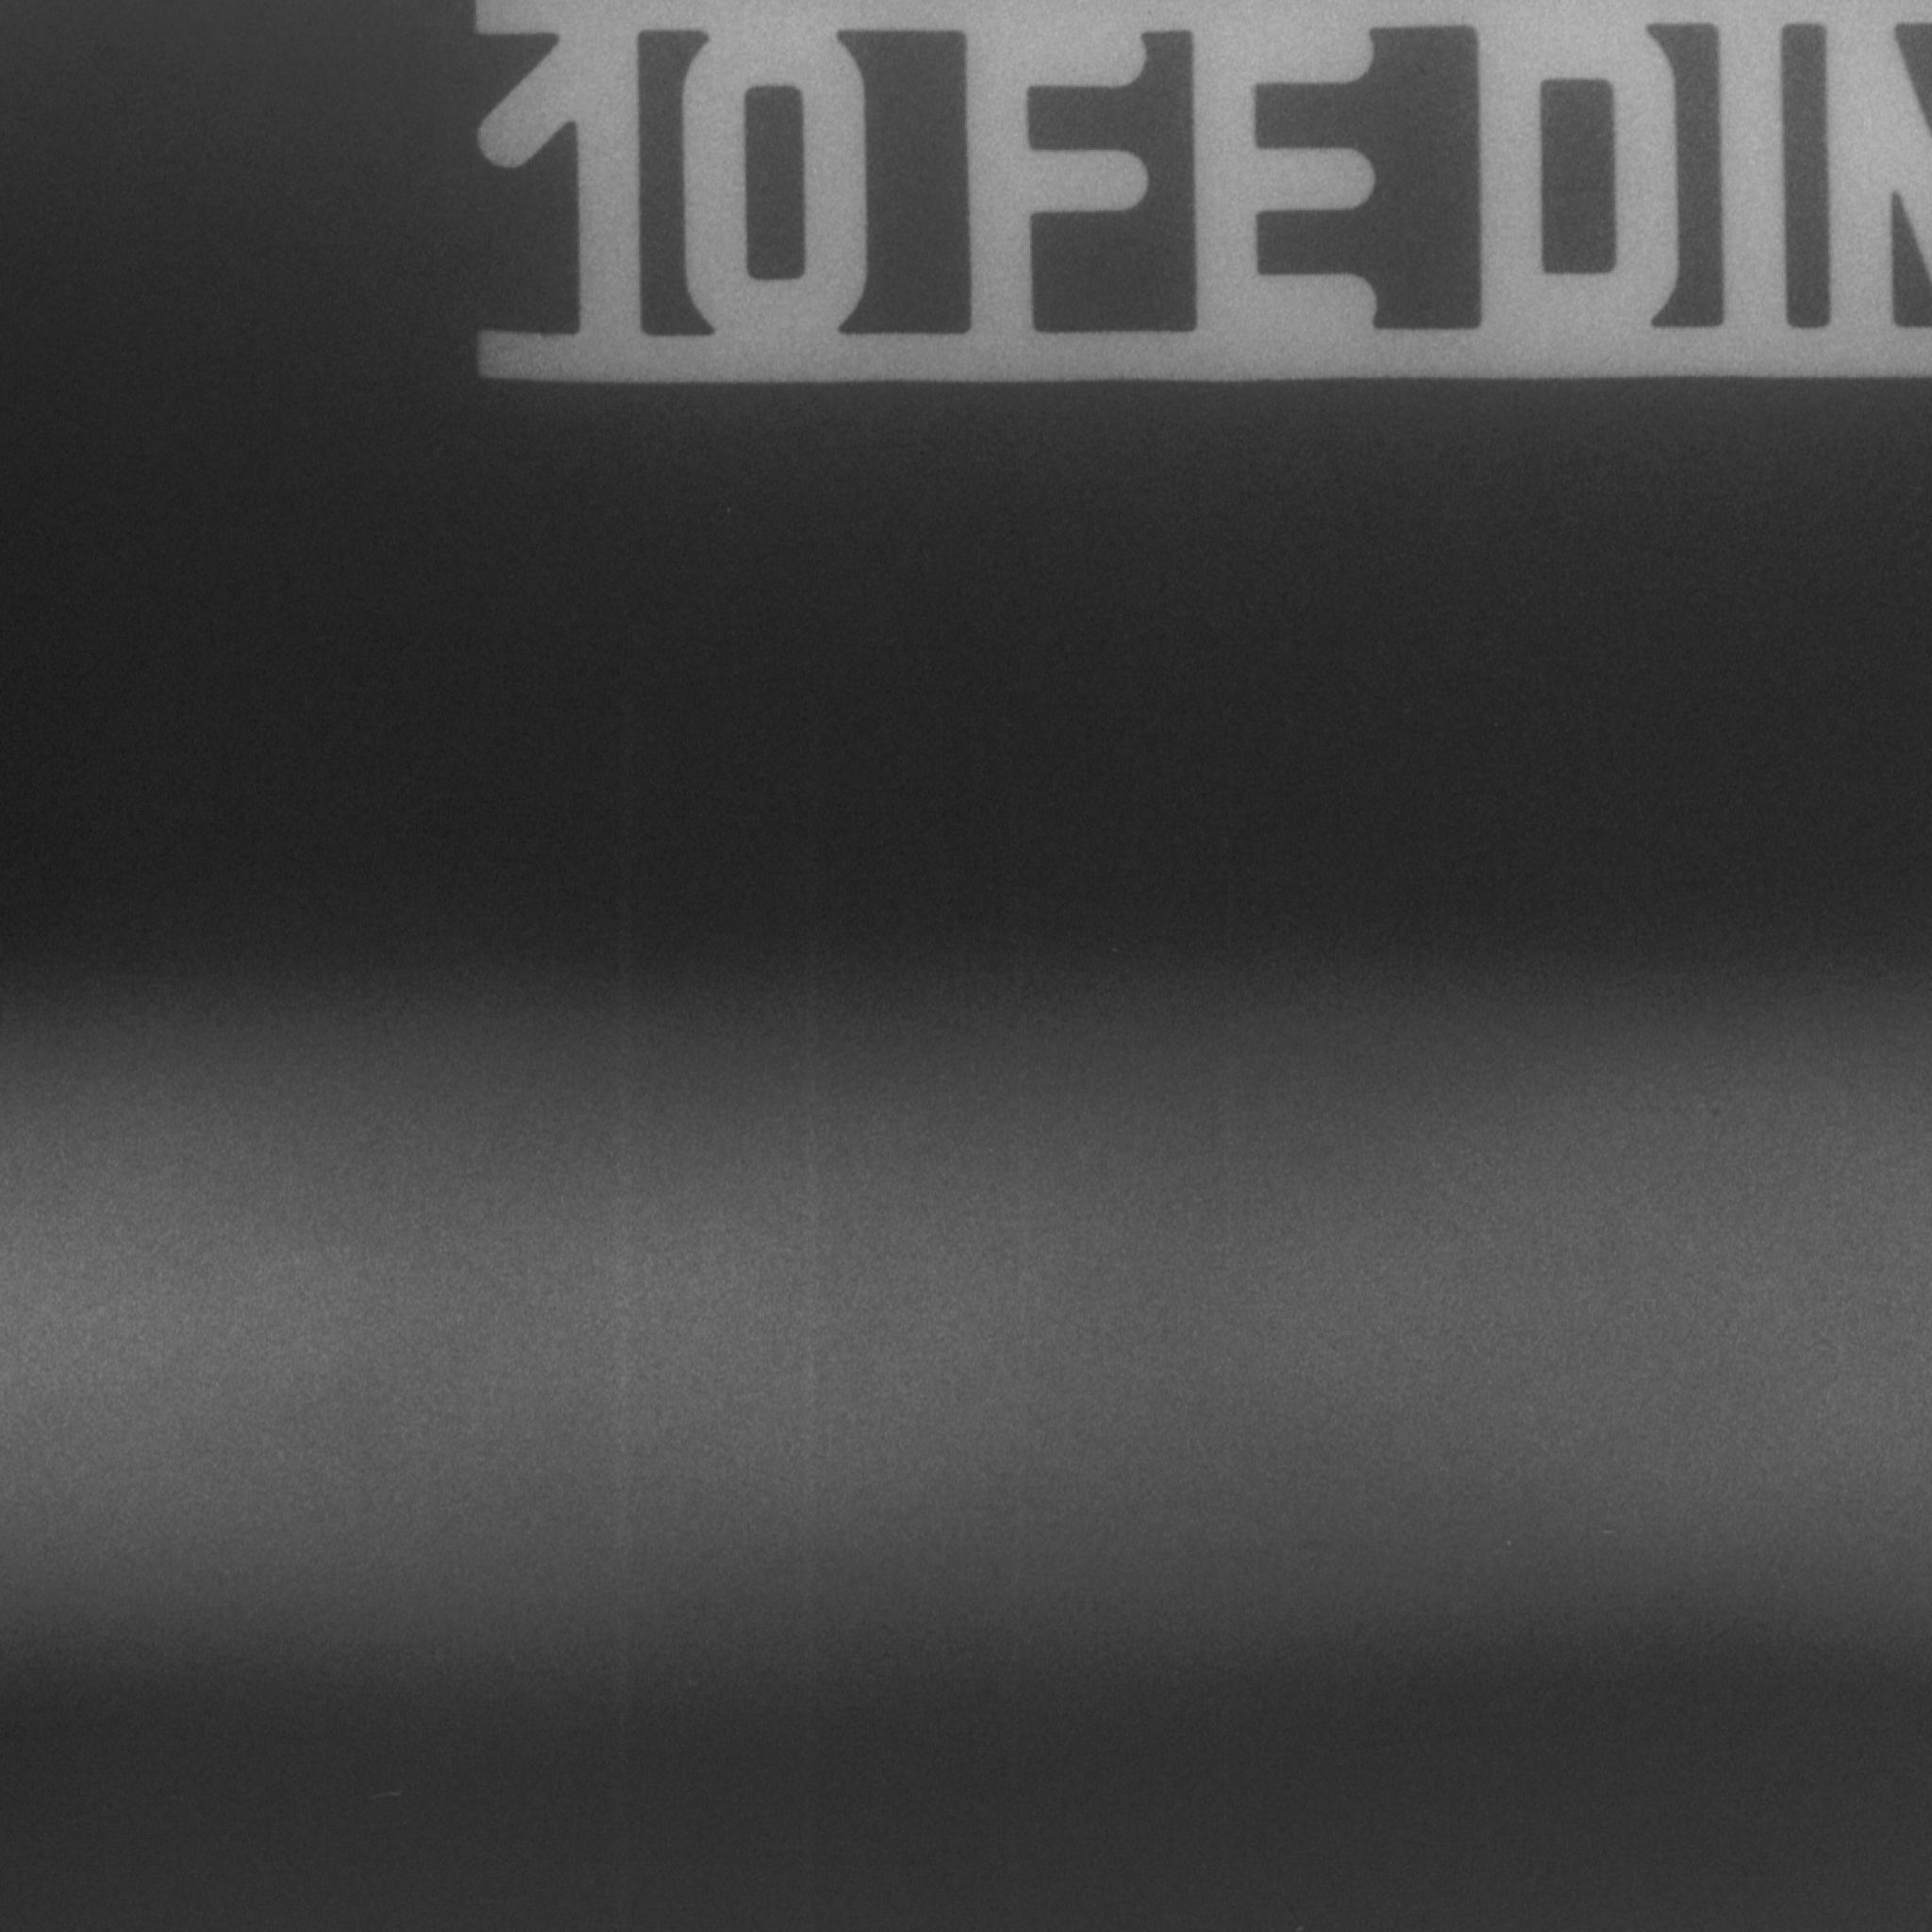Sem defeitos: (0, 963, 1932, 1774)
